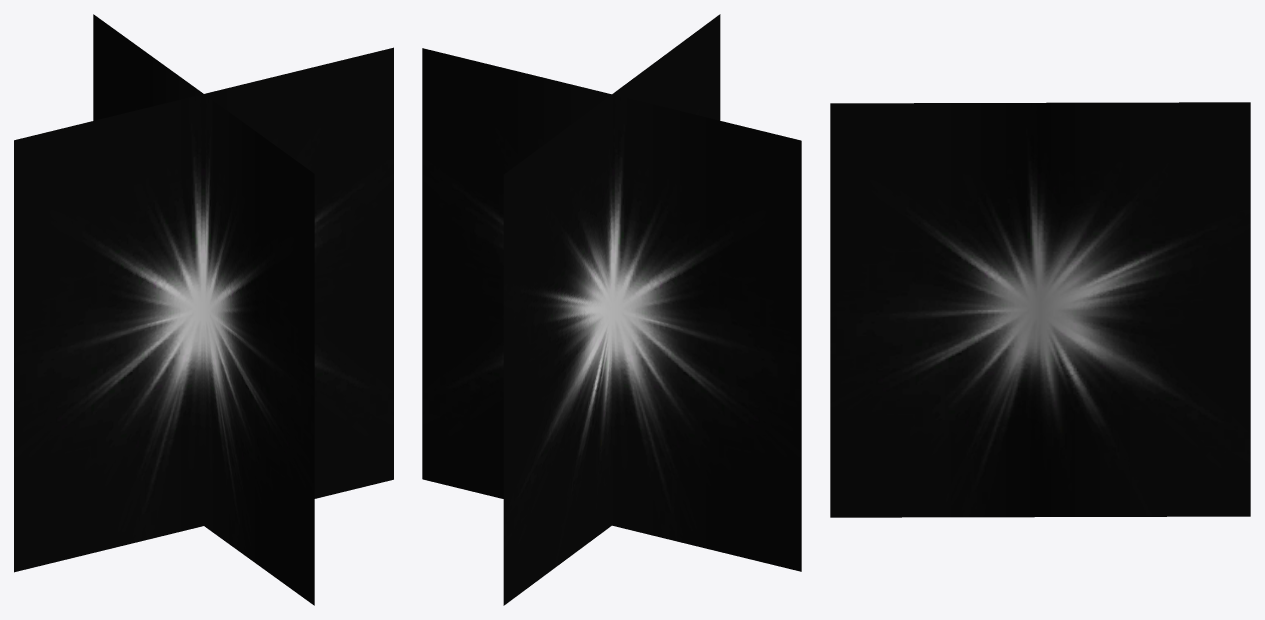
File: 0359_kuaiyongwa_shizi.glb
The picture shows the model from 3 angles, left to right: view 1: azimuth 30°, elevation 25°; view 2: azimuth 150°, elevation 25°; view 3: azimuth 270°, elevation 25°; orthographic projection. The views are drawn at different scales.
Size of the model in its own units: 2.02 by 2.2 by 2.02.
Materials: 1 (1 with a texture image).
